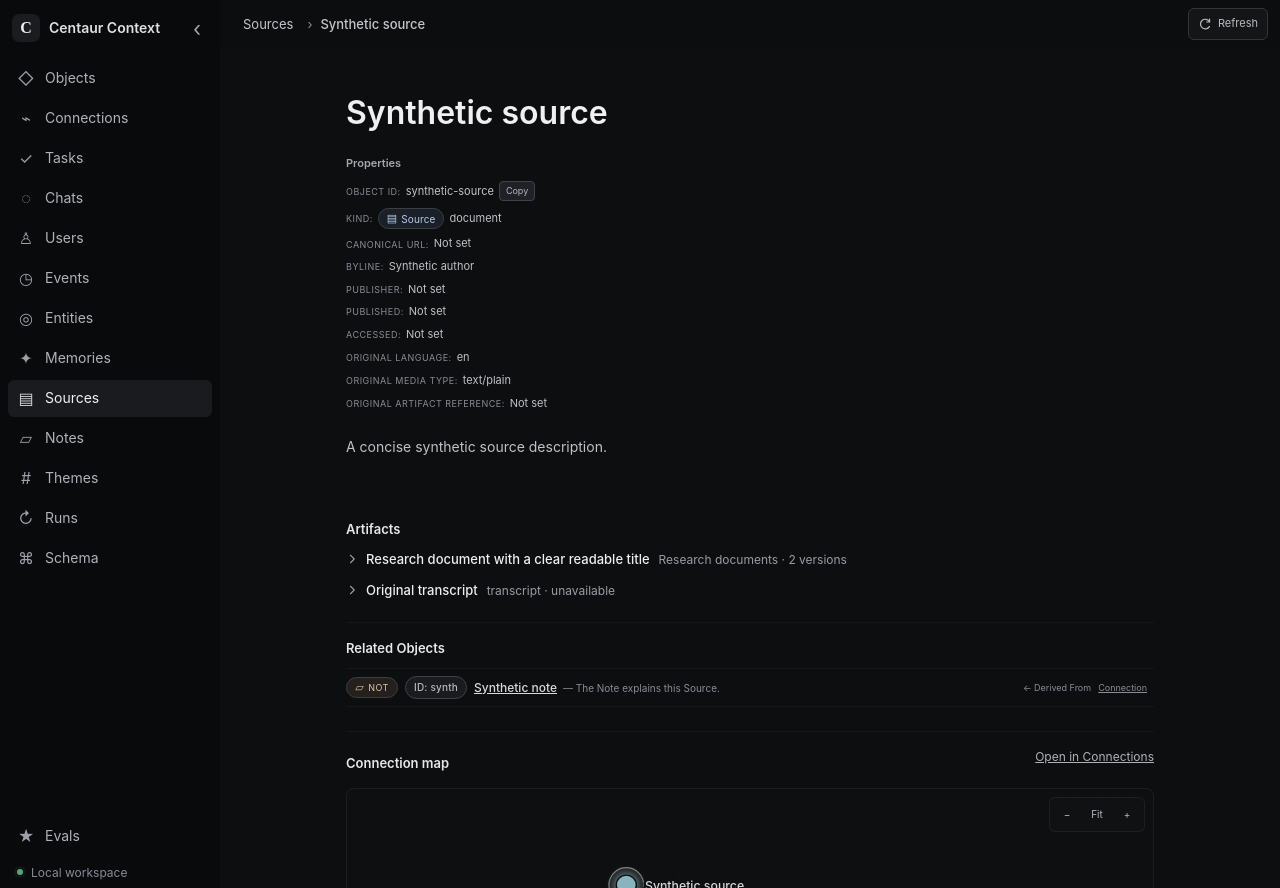
shows Source artifacts and connected Notes once without creation or correction prompts
expect the link "Original transcript transcript · unavailable" is shown: met, box [346,582,615,598]
expect the heading "Connection map" is shown: met, box [346,754,449,772]
Click the link "Synthetic note" at (516, 687), box [474,679,557,696]
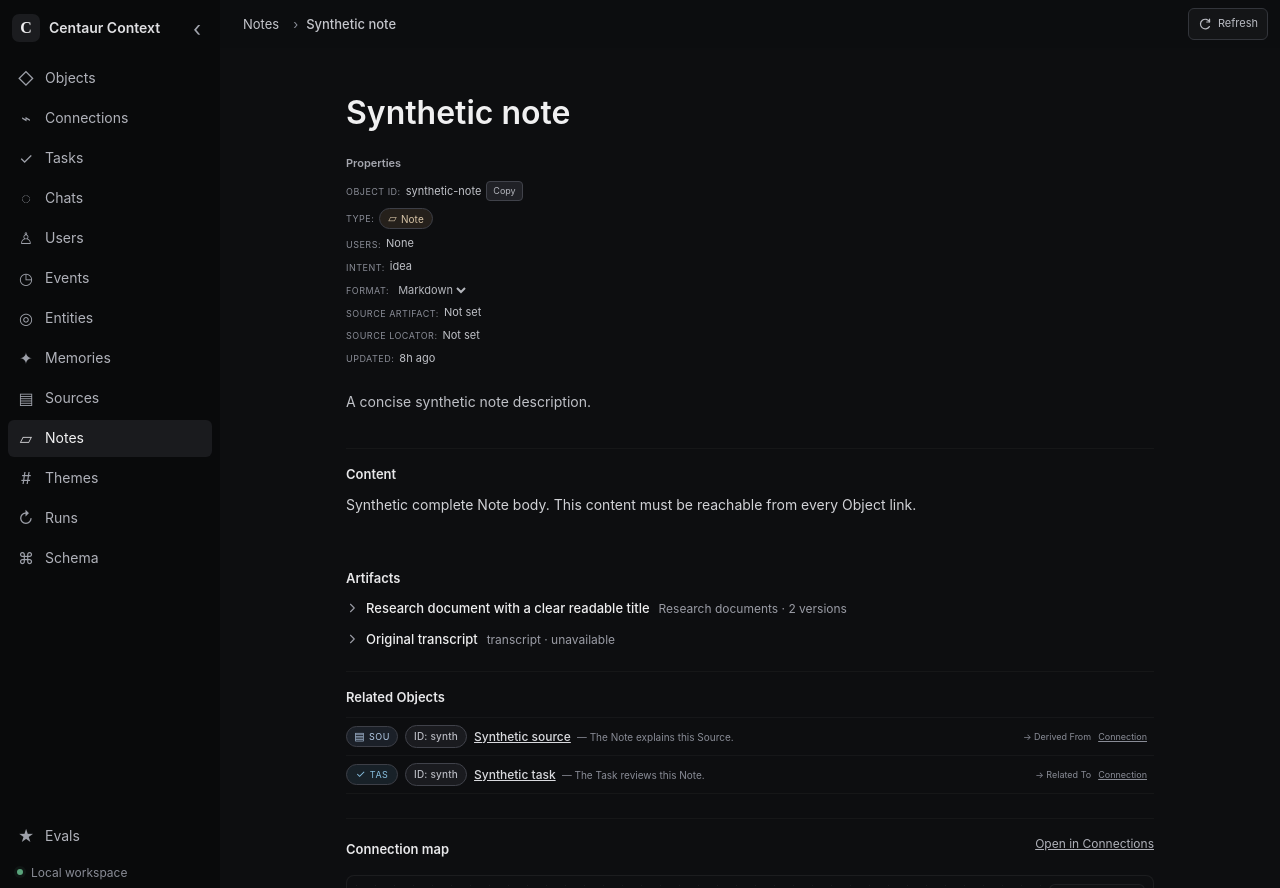
expect the button with aria-label "Edit Note content" shows "Synthetic complete Note body.": met, box [346,493,1154,517]
